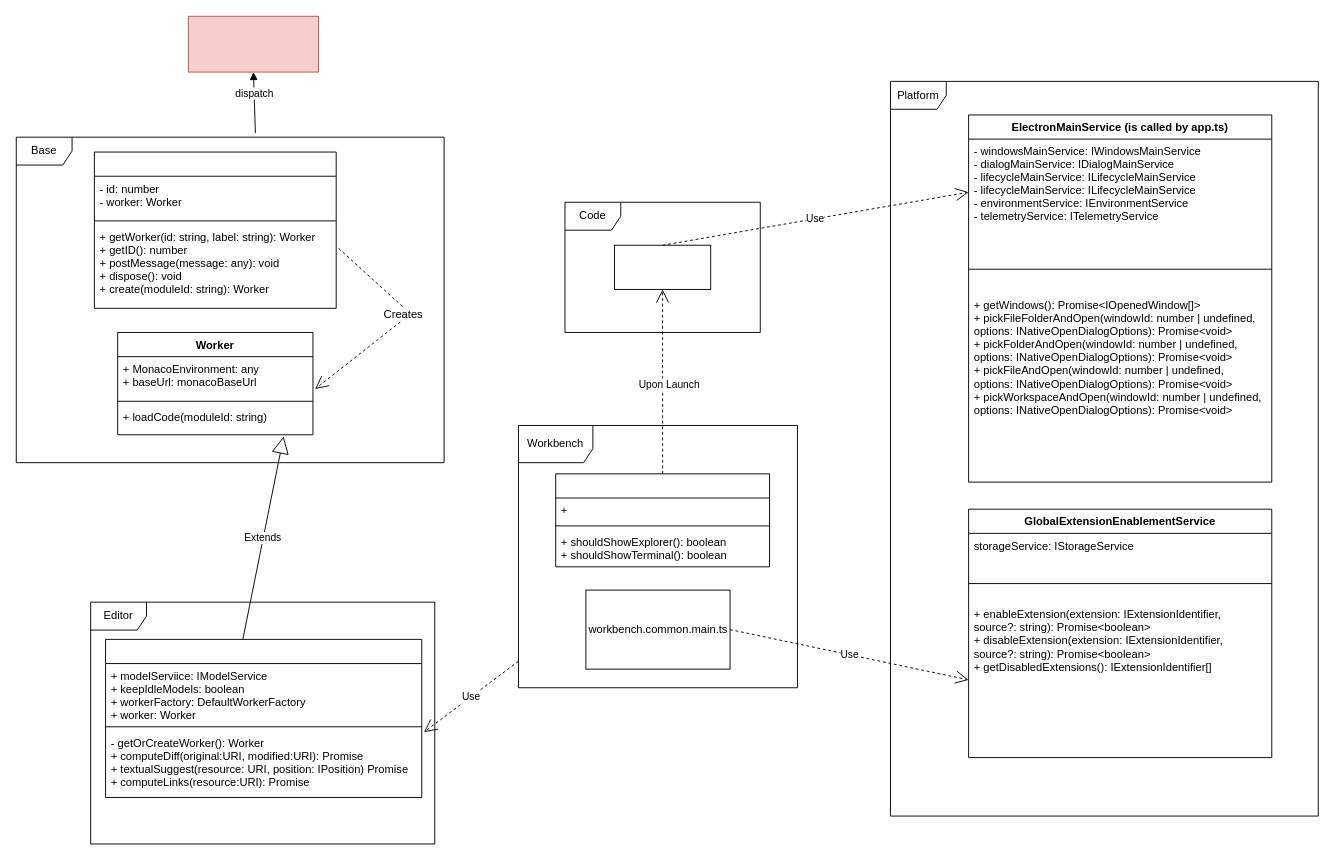
Some shapes in this 1335 by 860 pixel diagram are drawn without their labels. Here are the shapes that lost their labels. From the top down, the box of each, then its label:
(187, 15, 319, 72): FrontEnd
(93, 151, 336, 308): DefaultWorkerFactory
(614, 244, 711, 289): Function calls
(555, 473, 770, 567): RemoteEmptyWorkbenchPresentation
(105, 638, 422, 797): EditorWorkerClient
